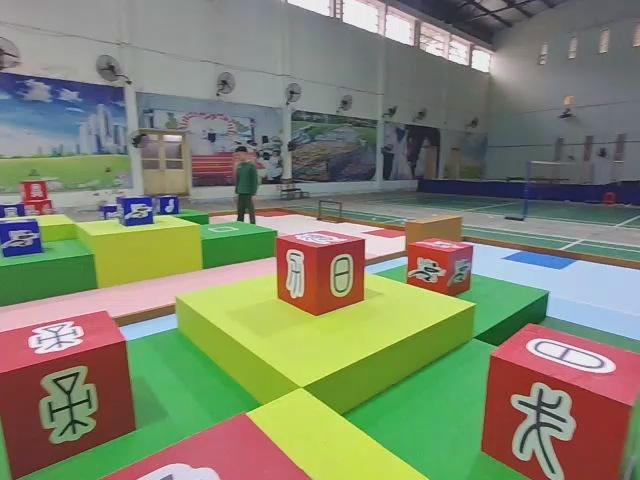R1: (405, 238, 475, 295)
R2 Fake: (482, 321, 640, 480), (275, 231, 367, 318)
R2 Real: (0, 308, 134, 480)
